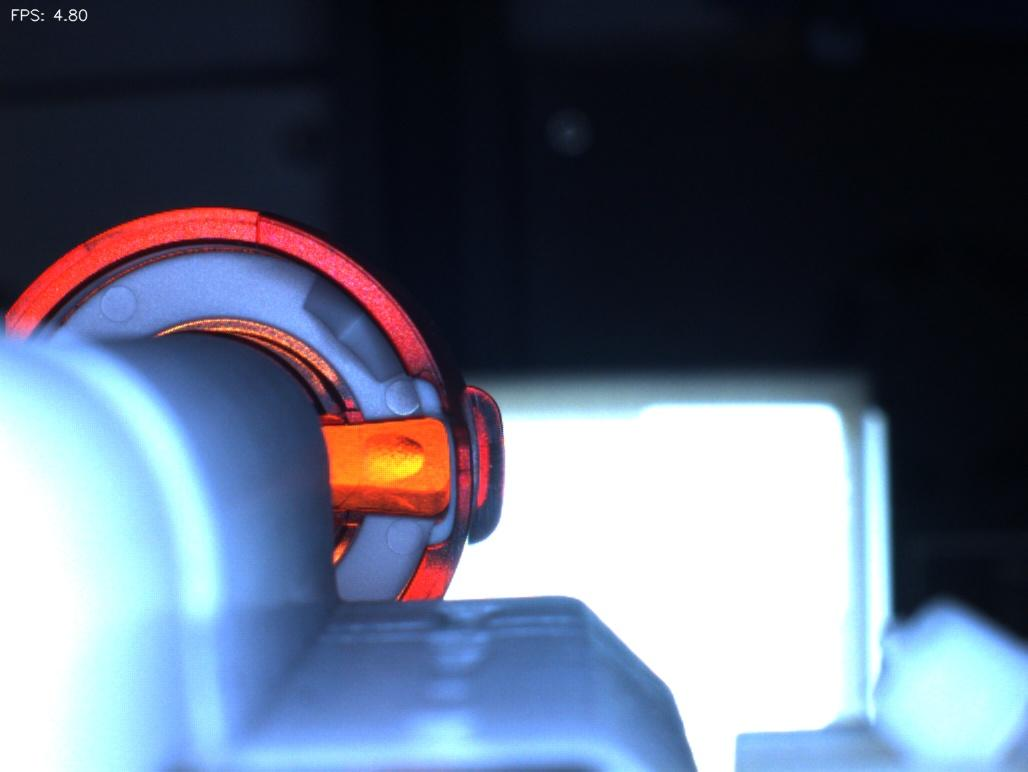Retassure: (347, 433, 434, 503)
